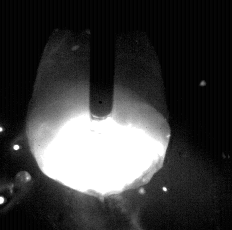arame: (91, 0, 115, 120)
poca: (26, 0, 172, 230)
